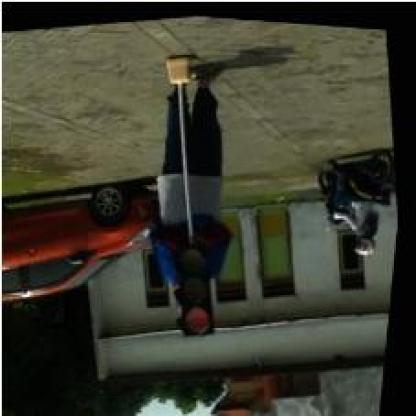red: (169, 236, 226, 336)
